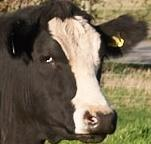muzzles: (70, 105, 120, 143)
